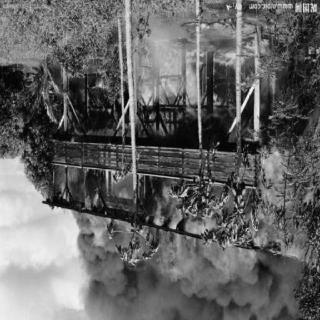Fire: (64, 34, 316, 286)
Smoke: (88, 248, 212, 318), (217, 264, 307, 318)
